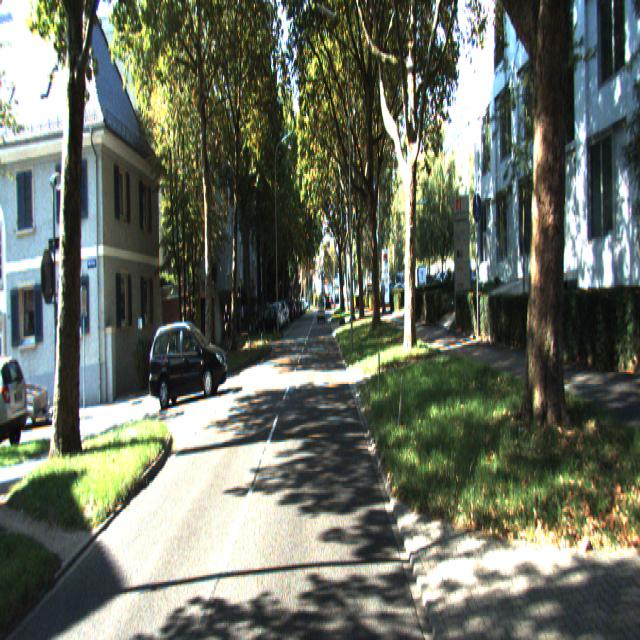Car: (148, 322, 228, 410), (255, 307, 278, 338)
